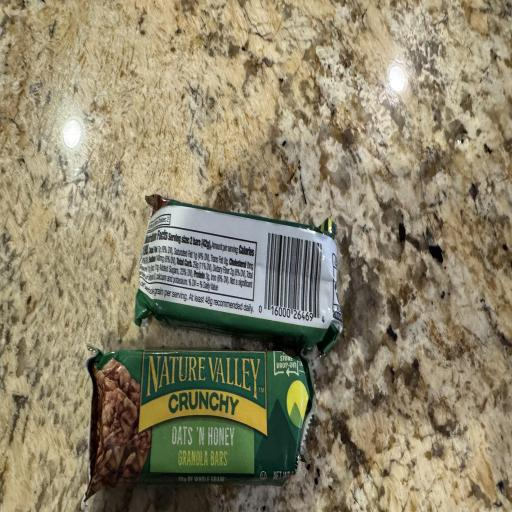granola: (85, 350, 313, 498), (135, 196, 342, 351)
